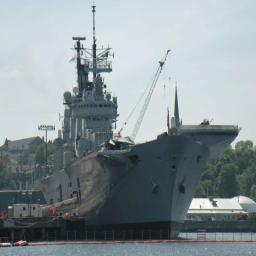Portanaves: (31, 4, 244, 243)
